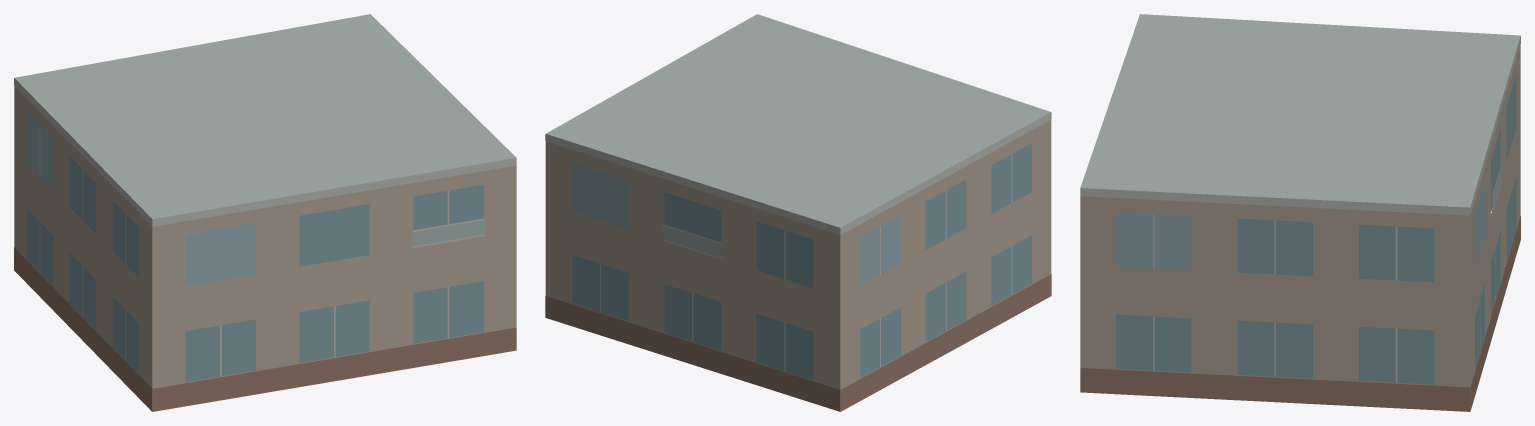
File: survey-upis-32743383.glb
3 views of the same model, side by side, from view 1: azimuth 30°, elevation 25°; view 2: azimuth 150°, elevation 25°; view 3: azimuth 270°, elevation 25° (orthographic). The views are drawn at different scales.
Parts seen in each view (by area): view 1: survey-upis-32743383.tmp; view 2: survey-upis-32743383.tmp; view 3: survey-upis-32743383.tmp.
Boxes of the visible parts, <box> form: survey-upis-32743383.tmp: <box>14,14,516,411</box>; survey-upis-32743383.tmp: <box>545,14,1051,411</box>; survey-upis-32743383.tmp: <box>1080,14,1520,411</box>.
Size of the model in its own units: 12.4 by 6.1 by 11.93.
